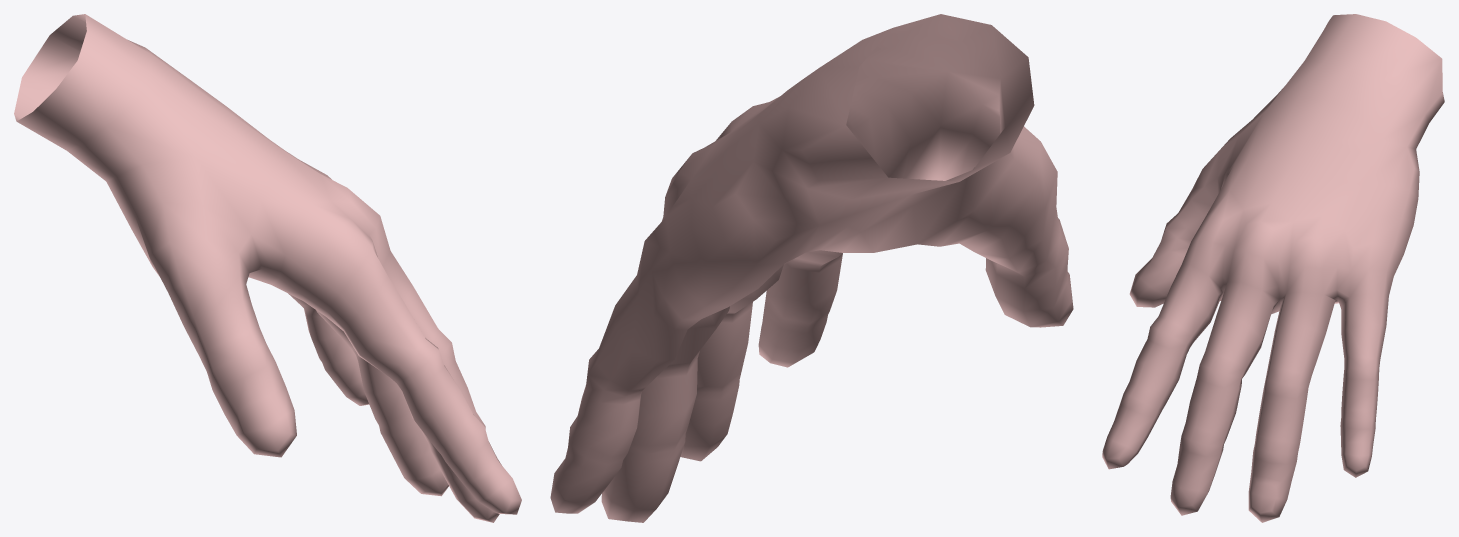
File: Superhero_Male_A_Hand02.fbx
3 views of the same model, side by side, from view 1: azimuth 30°, elevation 25°; view 2: azimuth 150°, elevation 25°; view 3: azimuth 270°, elevation 25° (orthographic). The views are drawn at different scales.
Visible parts, largest first — view 1: Superhero_Male_A_Hand02; view 2: Superhero_Male_A_Hand02; view 3: Superhero_Male_A_Hand02.
Part boxes in pixels (x1,y1,x2,y2): Superhero_Male_A_Hand02: (14, 14, 521, 522); Superhero_Male_A_Hand02: (550, 14, 1073, 522); Superhero_Male_A_Hand02: (1102, 14, 1444, 522).
Bounding box in the file's own units: 0.8636 × 1.1 × 0.8685.
